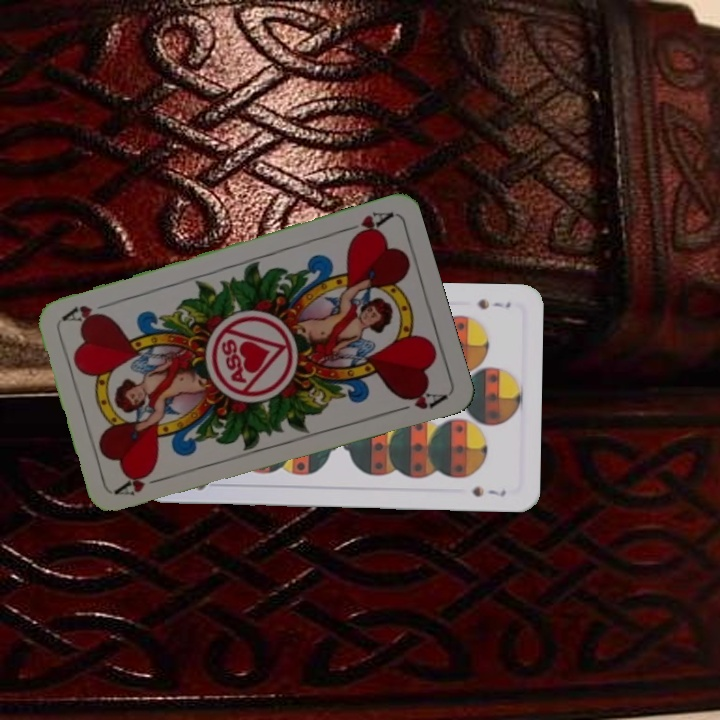HA: (337, 207, 395, 242), (112, 467, 171, 498)
S7: (473, 295, 513, 312)
